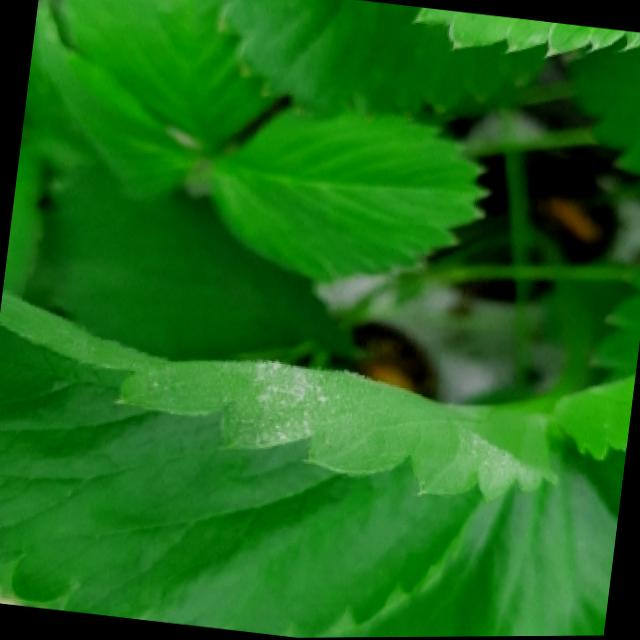Powdery Mildew Leaf: (0, 290, 559, 638)
